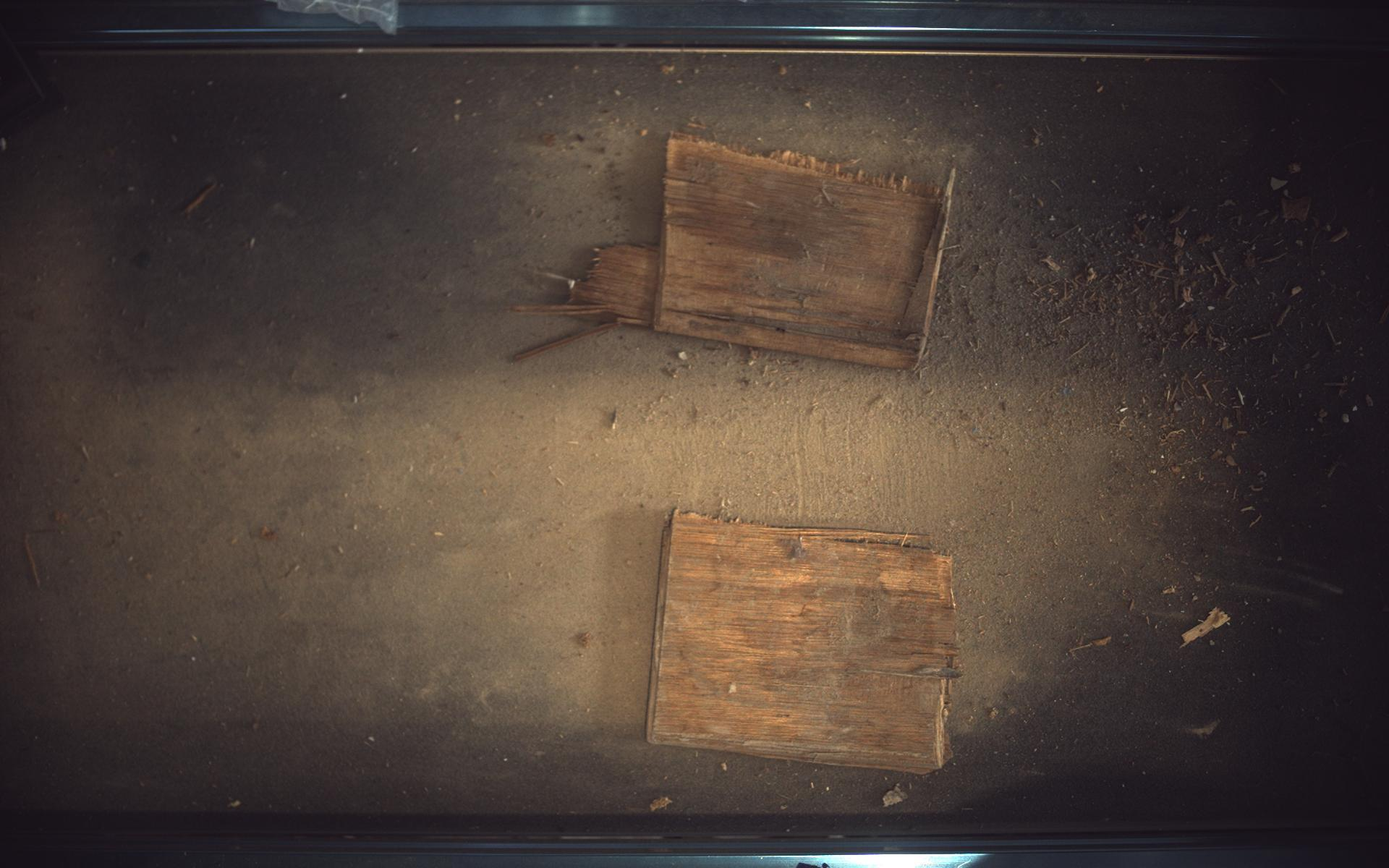wood: (513, 132, 957, 368), (649, 511, 959, 775)
